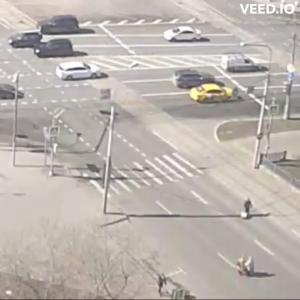car: (215, 51, 266, 74), (188, 84, 238, 106), (57, 62, 105, 82), (164, 25, 211, 45), (36, 39, 77, 60), (40, 19, 83, 36), (177, 69, 217, 87), (9, 33, 42, 50)
